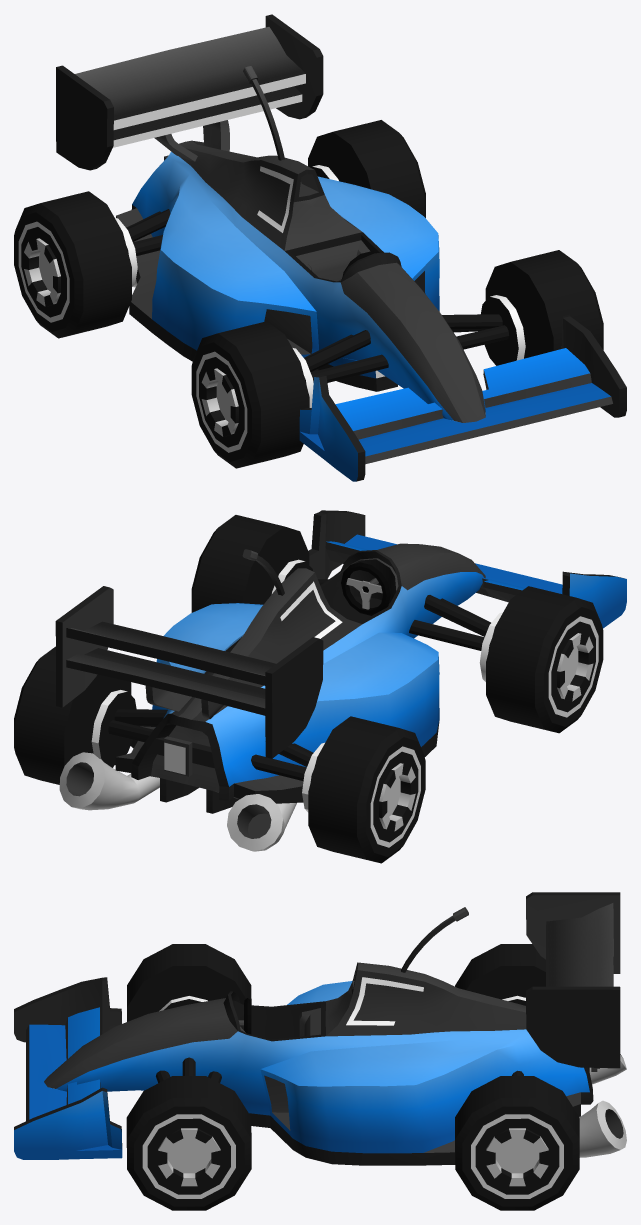
The picture shows the model from 3 angles, top to bottom: view 1: azimuth 30°, elevation 25°; view 2: azimuth 150°, elevation 25°; view 3: azimuth 270°, elevation 25°; orthographic projection. The views are drawn at different scales.
Visible parts, largest first — view 1: 10, apollo.tire.004, apollo.tire.006, apollo.tire.005, apollo.tire.007; view 2: 10, apollo.tire.004, apollo.tire.006, apollo.tire.007, apollo.tire.005; view 3: 10, apollo.tire.005, apollo.tire.007, apollo.tire.006, apollo.tire.004.
Part boxes in pixels (bbox=[...]): 10: bbox=[56, 14, 626, 481]; apollo.tire.004: bbox=[14, 191, 131, 338]; apollo.tire.006: bbox=[191, 321, 309, 468]; apollo.tire.005: bbox=[485, 250, 603, 358]; apollo.tire.007: bbox=[308, 120, 425, 217]; 10: bbox=[55, 510, 626, 851]; apollo.tire.004: bbox=[308, 716, 425, 863]; apollo.tire.006: bbox=[486, 586, 603, 733]; apollo.tire.007: bbox=[14, 646, 131, 784]; apollo.tire.005: bbox=[191, 515, 309, 612]; 10: bbox=[14, 892, 626, 1165]; apollo.tire.005: bbox=[126, 1076, 251, 1210]; apollo.tire.007: bbox=[455, 1076, 579, 1210]; apollo.tire.006: bbox=[127, 944, 251, 1021]; apollo.tire.004: bbox=[455, 944, 545, 999].
Bounding box in the file's own units: 228 × 149 × 366.
